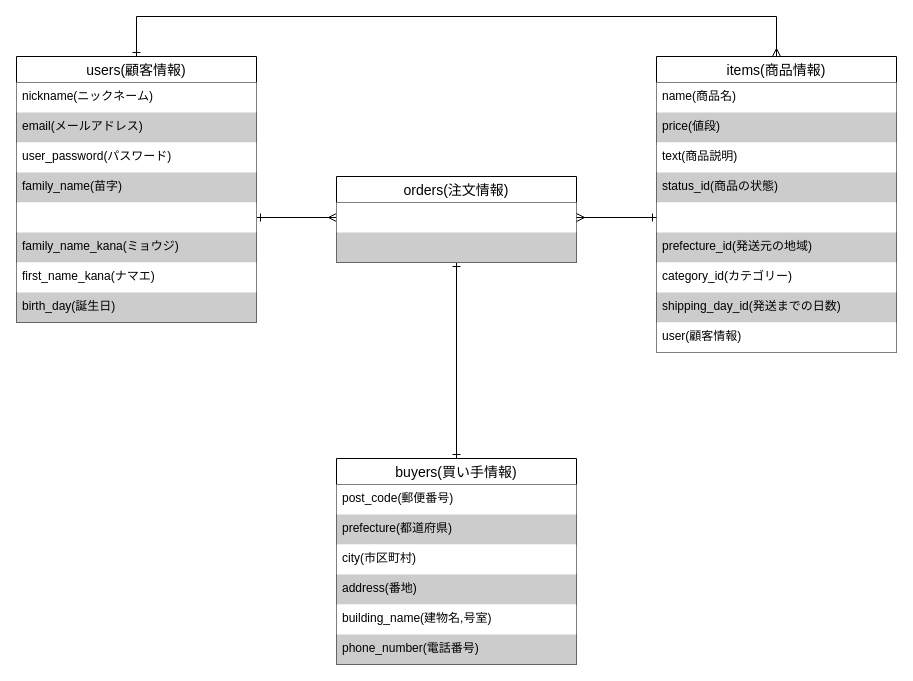
The diagram is 913 pixels wide and 681 high, and some of its shapes have lost their labels. The shapes that lost their labels are listed below. From the top down, each one's centre as x and y in pixels, then its label:
(x=136, y=217): first_name(名前)
(x=456, y=217): user_id(顧客情報)
(x=776, y=217): shipping_id(配送料)
(x=456, y=247): item_id(商品情報)
